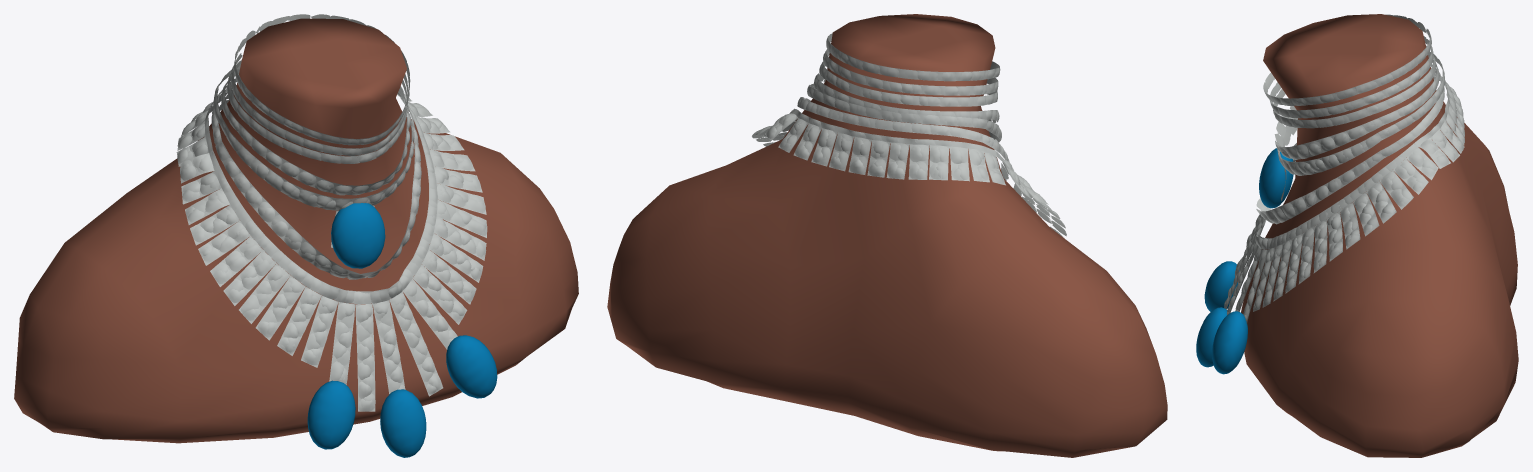
File: سسس.gltf
3 renders of one model, left to right at view 1: azimuth 30°, elevation 25°; view 2: azimuth 150°, elevation 25°; view 3: azimuth 270°, elevation 25°, orthographic. The views are drawn at different scales.
Visible parts, largest first — view 1: Obj_Avatar_Shape (×3); view 2: Obj_Avatar_Shape (×2); view 3: Obj_Avatar_Shape (×3).
Boxes of the visible parts, x1,y1,x2,y2 form: Obj_Avatar_Shape (×3): (14, 14, 578, 457); Obj_Avatar_Shape (×2): (607, 14, 1167, 457); Obj_Avatar_Shape (×3): (1196, 14, 1518, 457).
Size of the model in its own units: 0.8334 by 0.5175 by 0.4639.
